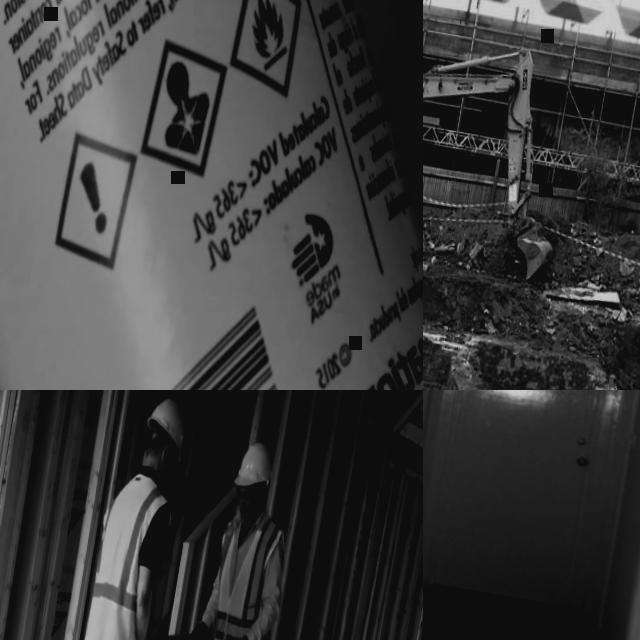helmet: (142, 394, 192, 464), (233, 438, 278, 493)
machinery: (423, 5, 584, 282)
no_mask: (238, 505, 258, 528), (158, 458, 170, 488)
person: (28, 390, 199, 640), (154, 433, 308, 640)
vest: (82, 468, 179, 640), (201, 507, 293, 640)
